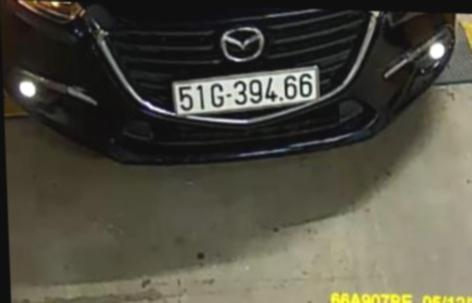License_Plate: (164, 63, 329, 124)
